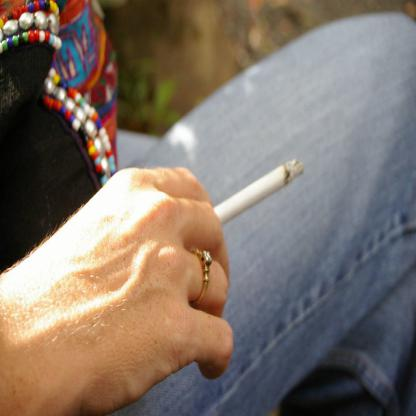smoking: (179, 159, 304, 242)
